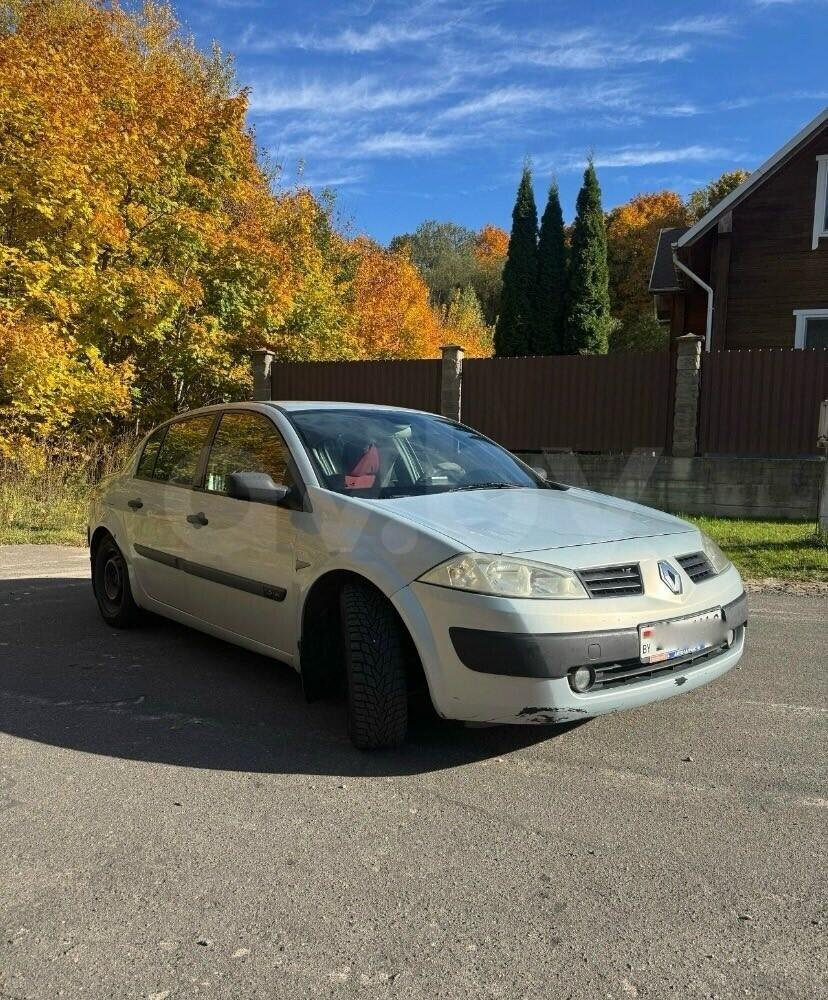Megane_2002-2006: (83, 395, 756, 749)
